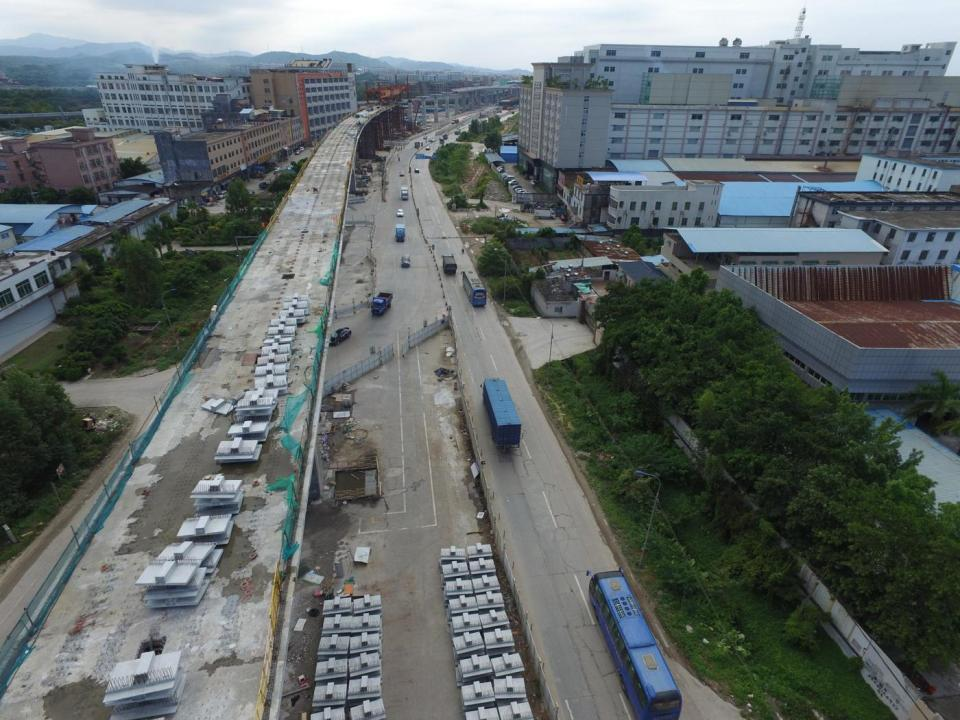bus: (584, 569, 682, 720), (463, 271, 487, 310)
car: (326, 328, 350, 345), (402, 254, 411, 268), (396, 209, 404, 217), (286, 166, 294, 172), (504, 176, 513, 181), (509, 179, 518, 184), (512, 185, 521, 190), (517, 189, 526, 194), (512, 185, 523, 189), (560, 214, 566, 221), (248, 189, 254, 195), (502, 174, 510, 178), (439, 138, 444, 144), (428, 138, 435, 142), (415, 168, 420, 173), (531, 180, 536, 185), (400, 171, 404, 176), (275, 167, 280, 171), (423, 135, 427, 139), (425, 147, 430, 150), (497, 167, 504, 169), (498, 169, 502, 172)
truck: (480, 378, 525, 454), (372, 292, 393, 316), (442, 254, 458, 275), (534, 208, 555, 219), (394, 226, 406, 243), (259, 182, 277, 188), (401, 187, 408, 200), (454, 128, 462, 134), (452, 120, 459, 126), (414, 142, 420, 148), (443, 134, 448, 139)
van: (218, 190, 228, 198), (295, 150, 300, 155)
